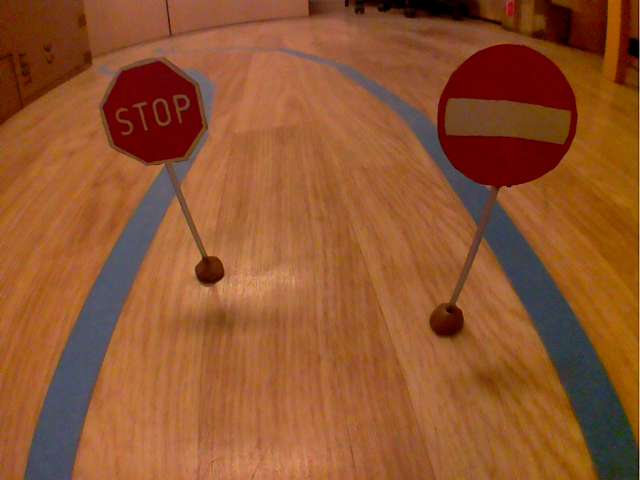Stop: (94, 53, 212, 170)
Zakaz: (430, 38, 580, 193)
